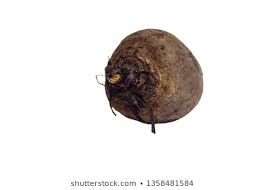beet: (106, 29, 204, 123)
